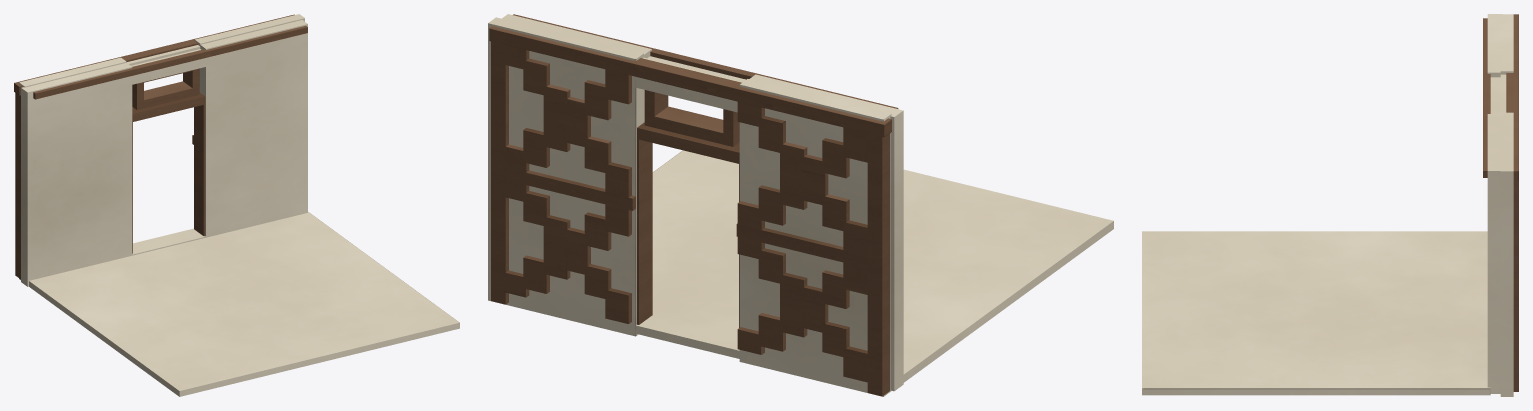
File: med_door_b.glb
3 views of the same model, side by side, from view 1: azimuth 30°, elevation 25°; view 2: azimuth 150°, elevation 25°; view 3: azimuth 270°, elevation 25° (orthographic). The views are drawn at different scales.
Parts seen in each view (by area): view 1: med_door_b; view 2: med_door_b; view 3: med_door_b.
Part boxes in pixels (left/top/right/bottom): med_door_b: left=14, top=14, right=459, bottom=396; med_door_b: left=488, top=14, right=1113, bottom=396; med_door_b: left=1142, top=14, right=1518, bottom=396.
Size of the model in its own units: 4.04 by 2.68 by 4.06.
Materials: 1 (1 with a texture image).
